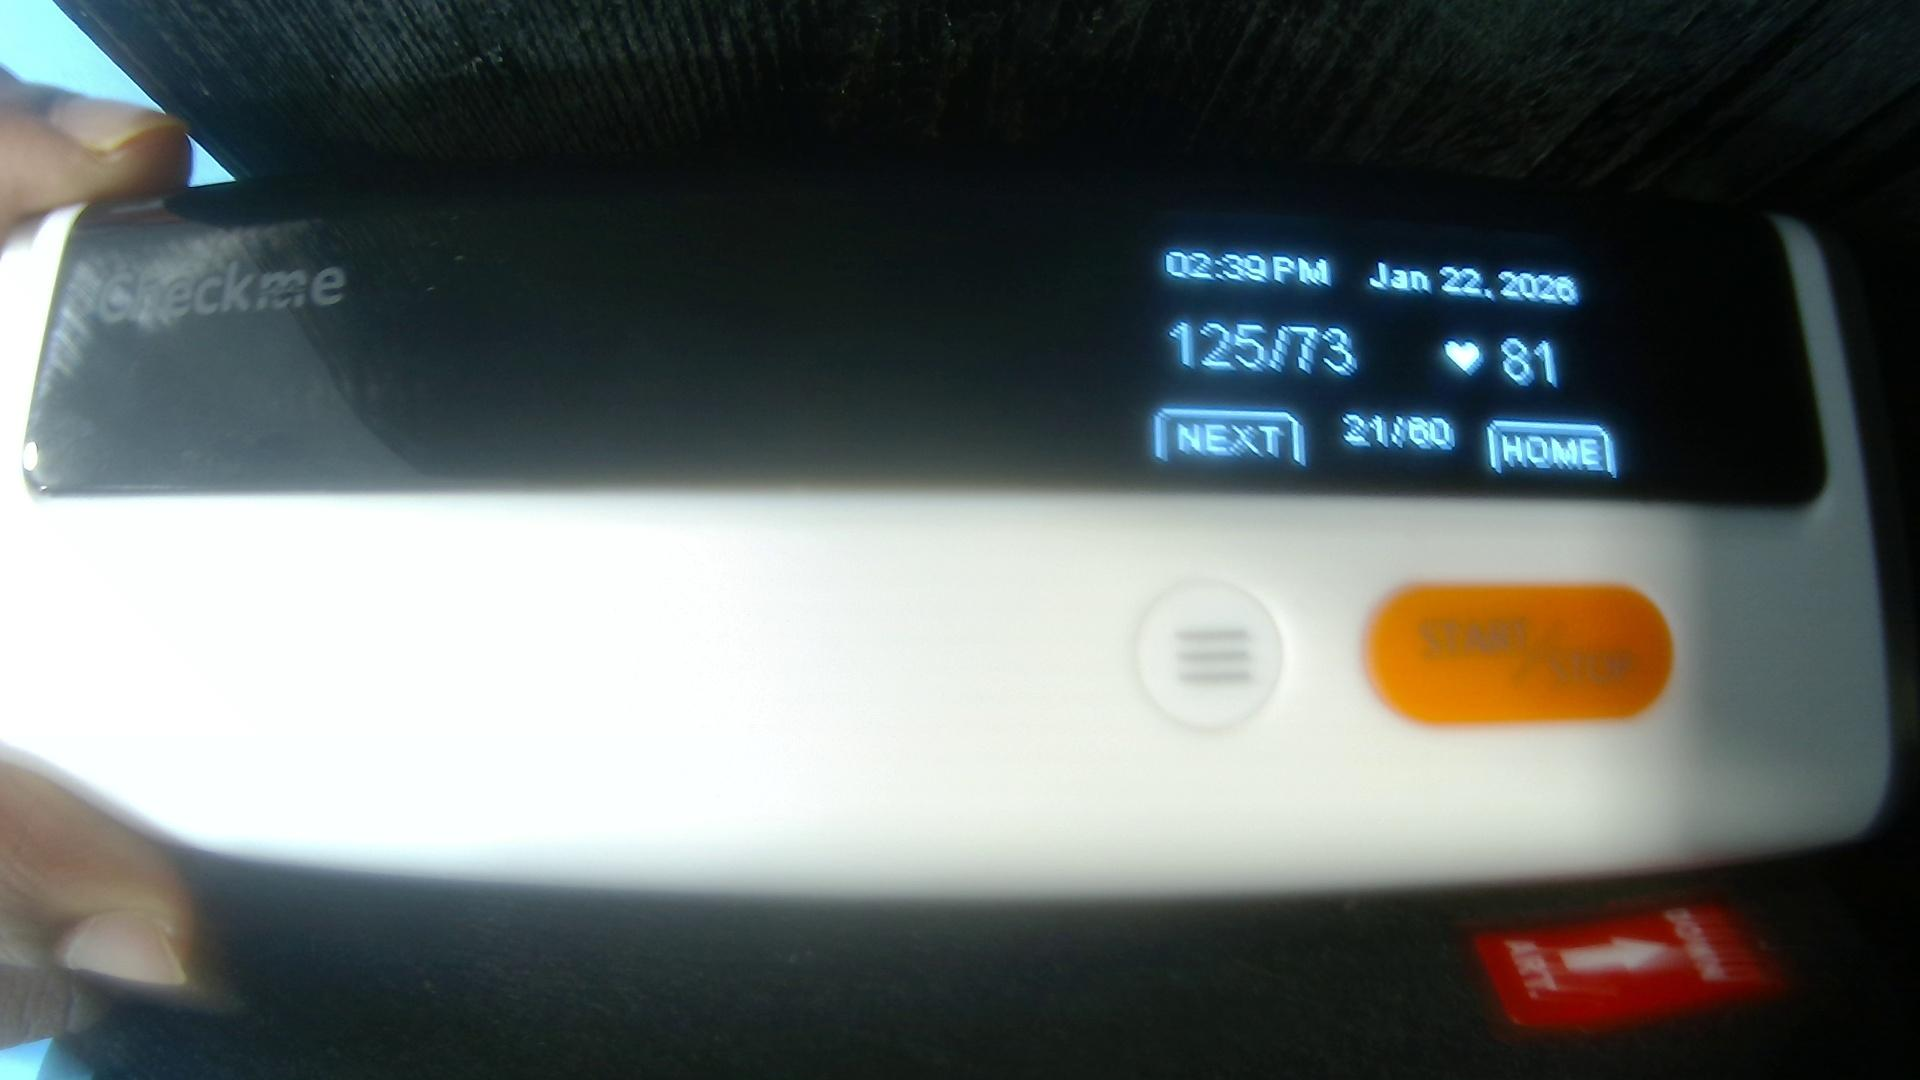DISPLAY: (45, 207, 1815, 516)
